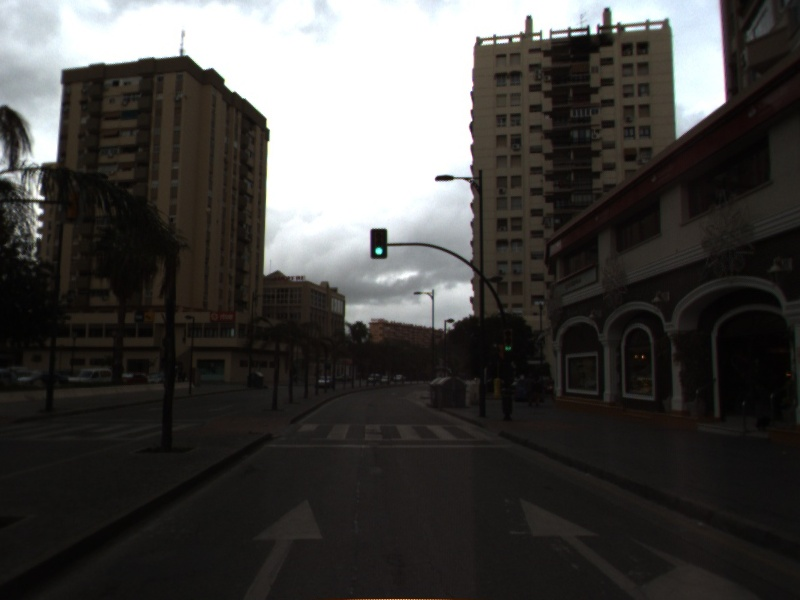STRAIGHT: (240, 495, 326, 600)
STRAIGHT_RIGHT: (514, 493, 768, 600)
